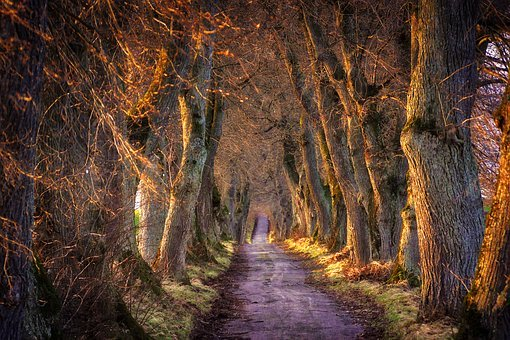forest: (9, 5, 510, 336)
